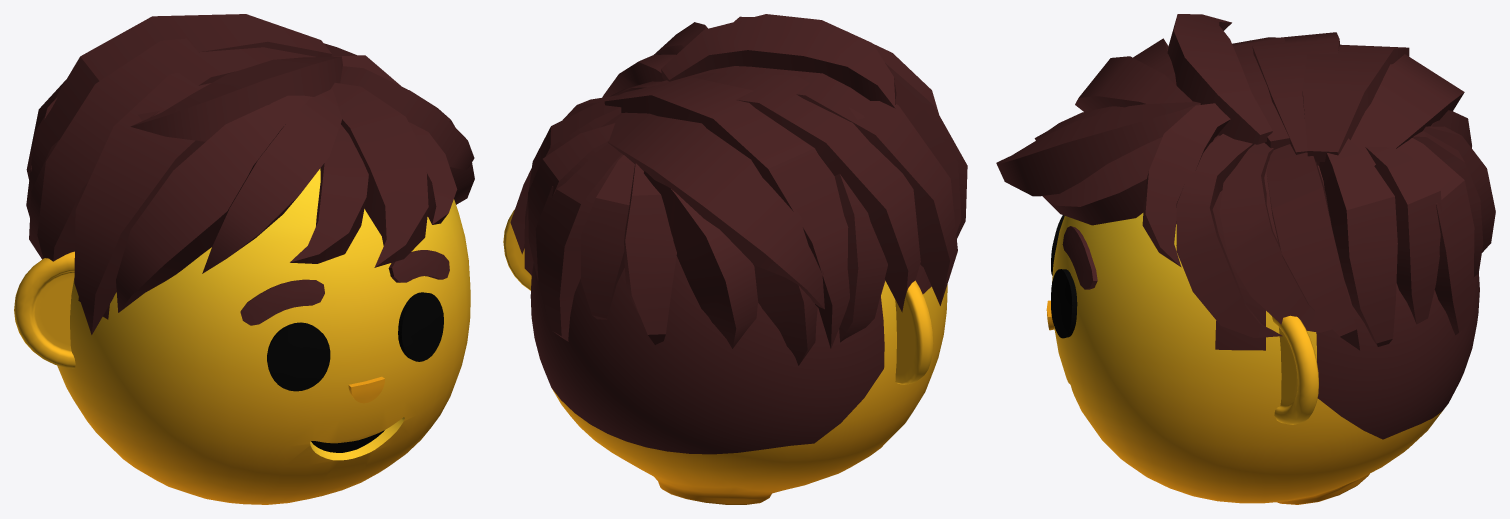
File: person.glb
The picture shows the model from 3 angles, left to right: view 1: azimuth 30°, elevation 25°; view 2: azimuth 150°, elevation 25°; view 3: azimuth 270°, elevation 25°; orthographic projection. The views are drawn at different scales.
Visible parts, largest first — view 1: Cube.213, Roundcube.006, Circle.301, ears.004, Circle.303, Circle.302; view 2: Cube.213, Roundcube.006, ears.004; view 3: Cube.213, Roundcube.006, ears.004, Circle.301, Circle.303.
Part boxes in pixels (x1,y1,x2,y2): Cube.213: (26,14,474,334); Roundcube.006: (57,168,470,504); Circle.301: (267,292,443,391); ears.004: (14,251,75,368); Circle.303: (240,250,449,325); Circle.302: (348,376,384,403); Cube.213: (510,14,967,365); Roundcube.006: (530,256,947,504); ears.004: (503,209,933,384); Cube.213: (996,14,1495,350); Roundcube.006: (1052,135,1479,504); ears.004: (1272,315,1318,424); Circle.301: (1051,215,1077,338); Circle.303: (1062,226,1097,289).
Size of the model in its own units: 1.76 by 1.73 by 1.77.
2 materials, 2 textured.
